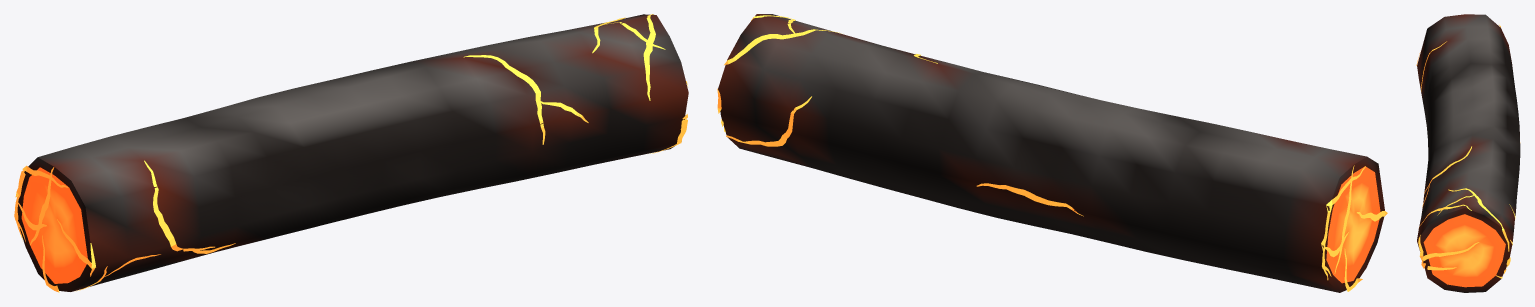
The model's file is log_volcano.glb.
The picture shows the model from 3 angles, left to right: view 1: azimuth 30°, elevation 25°; view 2: azimuth 150°, elevation 25°; view 3: azimuth 270°, elevation 25°; orthographic projection. The views are drawn at different scales.
Visible parts, largest first — view 1: log_volcano; view 2: log_volcano; view 3: log_volcano.
Part boxes in pixels (box(x1,y1,x2,y2)): log_volcano: box(14, 14, 688, 292); log_volcano: box(717, 14, 1387, 292); log_volcano: box(1416, 14, 1520, 292).
Bounding box in the file's own units: 3.97 × 0.7979 × 0.8698.
